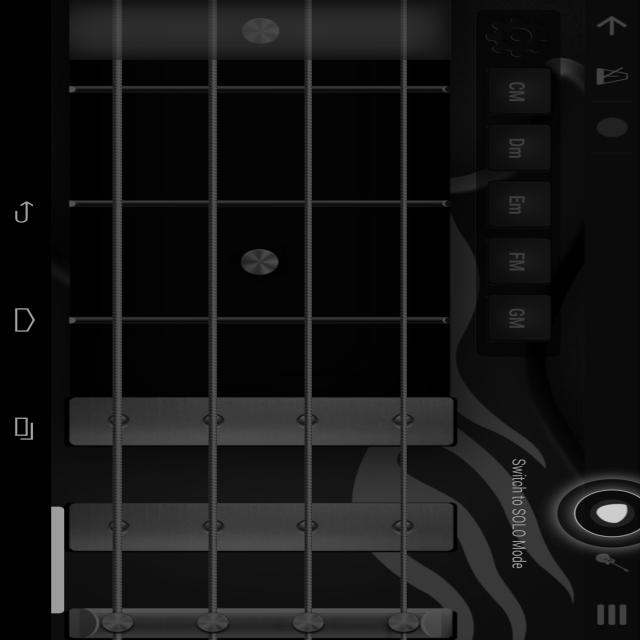ImageButton: (26, 56, 90, 96)
ImageView: (81, 4, 162, 32), (163, 4, 244, 32), (18, 4, 63, 32), (622, 92, 640, 114), (622, 122, 640, 144), (622, 152, 640, 174), (622, 182, 640, 204)
Switch: (622, 28, 640, 57), (622, 58, 640, 87)
TextView: (0, 118, 96, 357), (106, 55, 186, 98), (198, 55, 278, 98), (288, 55, 368, 98), (378, 55, 458, 98), (470, 55, 550, 98), (627, 0, 640, 27)
